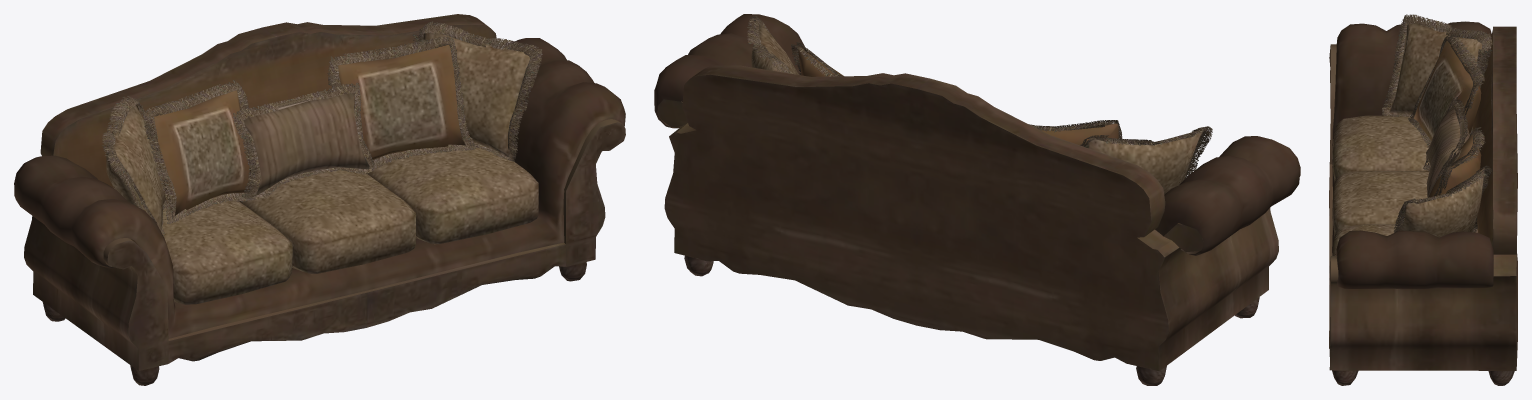
File: sofa_03.glb
3 renders of one model, left to right at view 1: azimuth 30°, elevation 25°; view 2: azimuth 150°, elevation 25°; view 3: azimuth 270°, elevation 25°, orthographic. The views are drawn at different scales.
Visible parts, largest first — view 1: mesh; view 2: mesh; view 3: mesh.
Boxes of the visible parts, x1,y1,x2,y2 form: mesh: [14, 14, 625, 385]; mesh: [654, 14, 1300, 385]; mesh: [1329, 14, 1517, 385].
Size of the model in its own units: 2.73 by 1.12 by 0.925.
2 materials, 2 textured.
